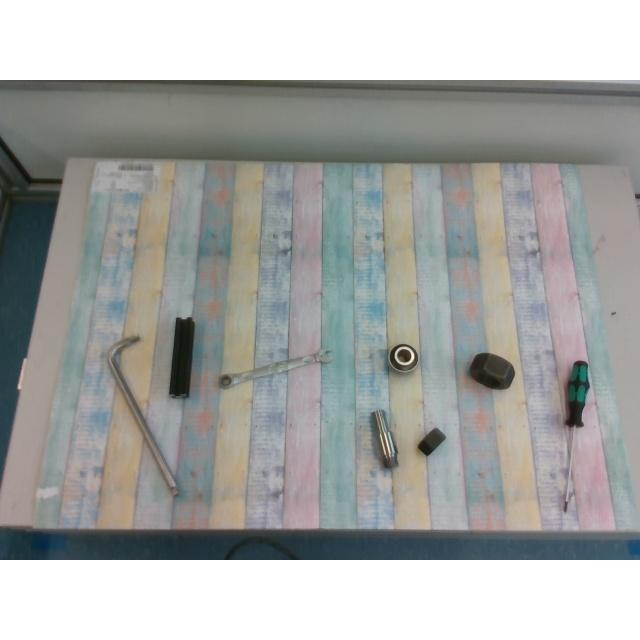AllenKey: (106, 336, 178, 497)
Axis2: (371, 410, 397, 468)
Bearing2: (388, 343, 418, 373)
F20_20_B: (170, 317, 194, 397)
M20: (417, 428, 445, 456)
M30: (470, 353, 514, 389)
Screwdriver: (562, 360, 590, 512)
Wrench: (218, 349, 329, 389)
